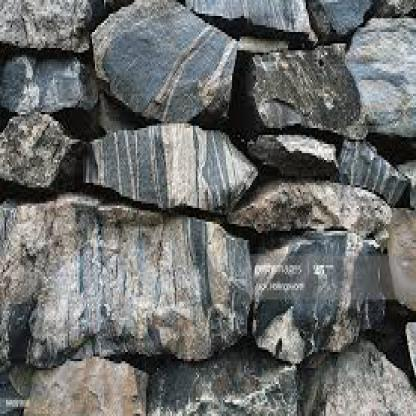Metamorphic_Marble: (8, 183, 250, 343), (244, 229, 390, 361), (84, 0, 242, 108), (76, 121, 257, 210), (232, 169, 407, 254), (146, 324, 308, 414), (237, 43, 366, 135), (0, 103, 77, 187)
